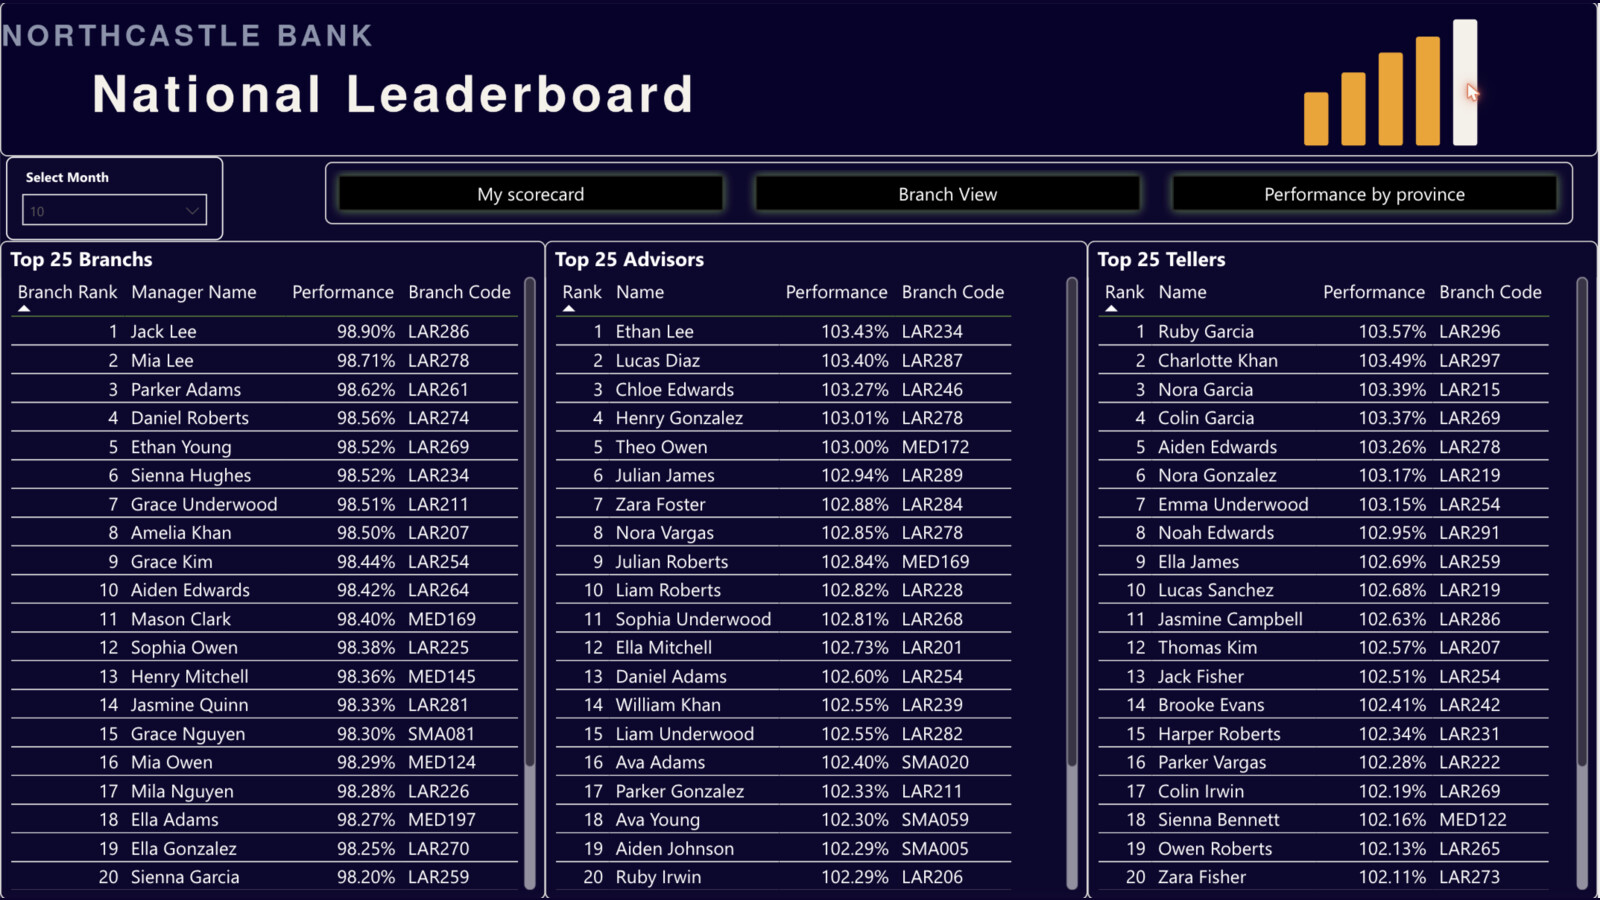

The dashboard page shown, as its layout file describes it:
{"tool":"powerbi","page":{"name":"Leaderboard","canvas":[1280,720],"ordinal":3},"visuals":[{"type":"image","box":[0,0,1280,124],"z":0},{"type":"tableEx","title":"Top 25 Branchs","fields":{"Values":["fact_sales.Branch Rank","dim_employee.Manager Name","fact_sales.Branch Score","dim_branch.branch_code"]},"box":[0,191.5,436.6,528.1],"z":1000},{"type":"slicer","title":"Select Month","fields":{"Values":["dim_month.month_number"]},"box":[21.3,123.8,212.2,67.7],"z":2000},{"type":"tableEx","title":"Top 25 Advisors","fields":{"Values":["fact_sales.Rank in Role","dim_employee.Name","fact_sales.Weighted Score","dim_branch.branch_code"]},"box":[436.6,191.5,434.6,528.1],"z":3000},{"type":"tableEx","title":"Top 25 Tellers","fields":{"Values":["fact_sales.Rank in Role","dim_employee.Name","fact_sales.Weighted Score","dim_branch.branch_code"]},"box":[871.2,191.5,408.8,528.1],"z":4000},{"type":"pageNavigator","box":[260.5,128.3,1000.1,50.3],"z":5000}]}

Visuals, with their boxes in screenshot pixels (x1, y1, x2, y2), scaled from the page's 1280x720 canvas onto the 1600x900 screenshot:
image: pyautogui.locateOnScreen(0, 0, 1599, 155)
"Top 25 Branchs" tableEx: pyautogui.locateOnScreen(0, 239, 546, 899)
"Select Month" slicer: pyautogui.locateOnScreen(27, 155, 292, 239)
"Top 25 Advisors" tableEx: pyautogui.locateOnScreen(546, 239, 1089, 899)
"Top 25 Tellers" tableEx: pyautogui.locateOnScreen(1089, 239, 1599, 899)
pageNavigator: pyautogui.locateOnScreen(326, 160, 1576, 223)
